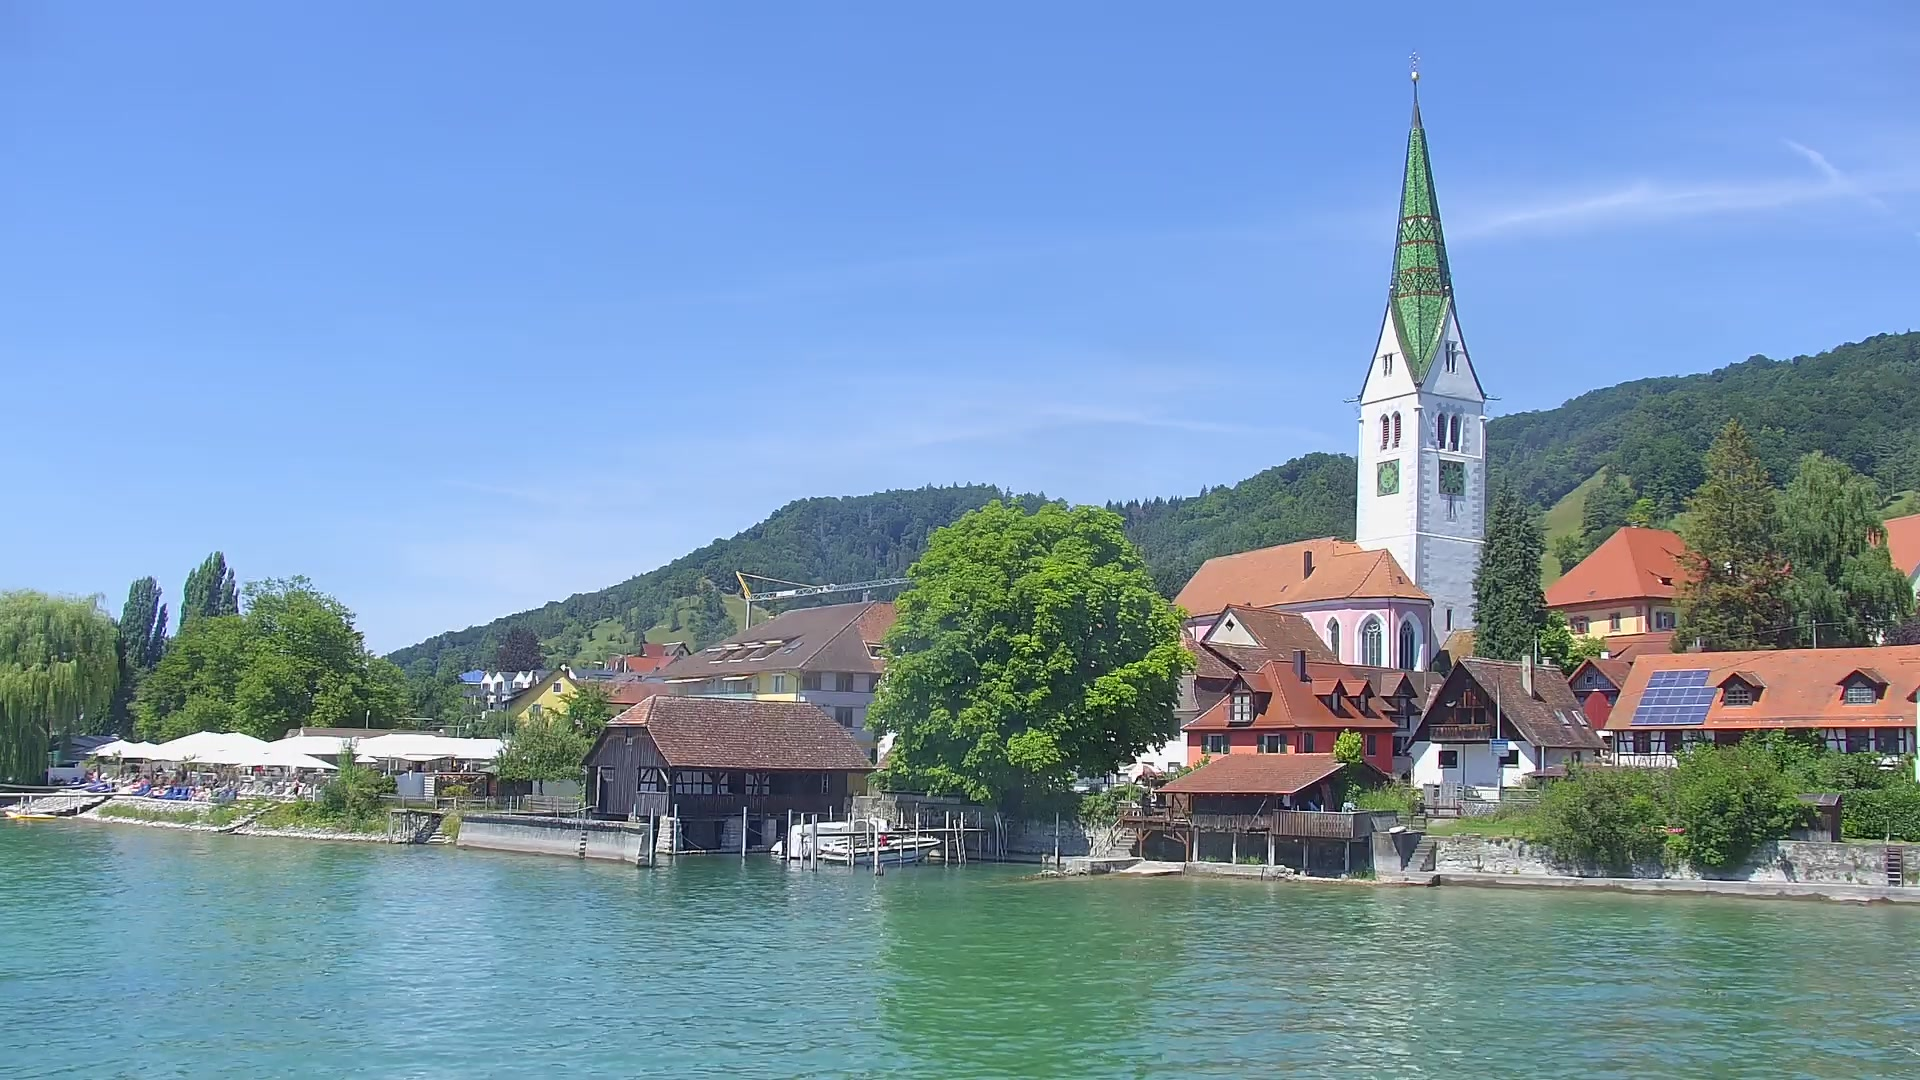sea: (767, 816, 891, 862), (812, 829, 943, 866)
